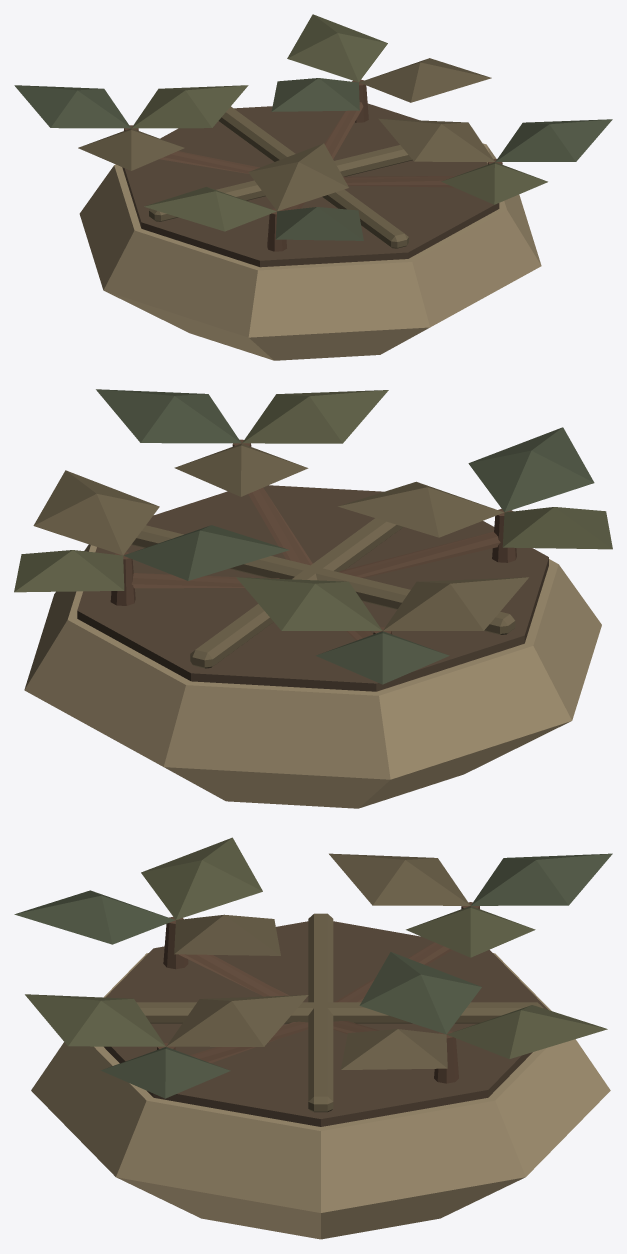
Rendered from wild_strawberry_packed_winter.glb.
3 views of the same model, one above another, from view 1: azimuth 30°, elevation 25°; view 2: azimuth 150°, elevation 25°; view 3: azimuth 270°, elevation 25° (orthographic). The views are drawn at different scales.
Visible parts, largest first — view 1: wild_strawberry_packed_winter; view 2: wild_strawberry_packed_winter; view 3: wild_strawberry_packed_winter.
Boxes of the visible parts, x1,y1,x2,y2 form: wild_strawberry_packed_winter: [14, 14, 612, 360]; wild_strawberry_packed_winter: [14, 389, 612, 808]; wild_strawberry_packed_winter: [14, 837, 612, 1239].
Size of the model in its own units: 1.29 by 0.5084 by 1.24.
